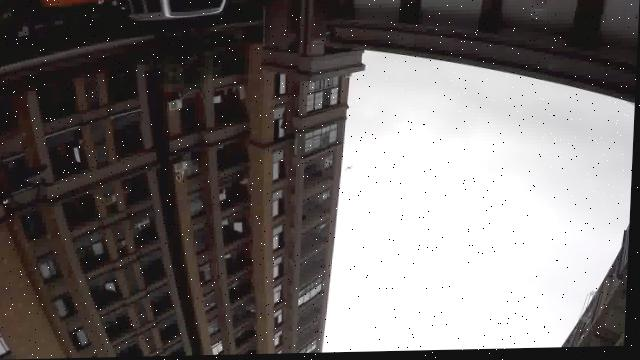drone: (346, 165, 356, 174)
